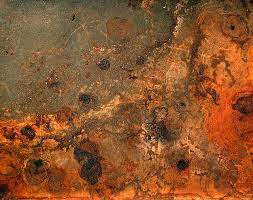rust: (3, 111, 250, 200), (163, 8, 253, 190), (68, 135, 108, 188), (138, 113, 185, 147), (230, 91, 253, 117), (73, 90, 104, 108), (127, 53, 150, 73), (170, 157, 192, 176), (94, 56, 116, 73)
